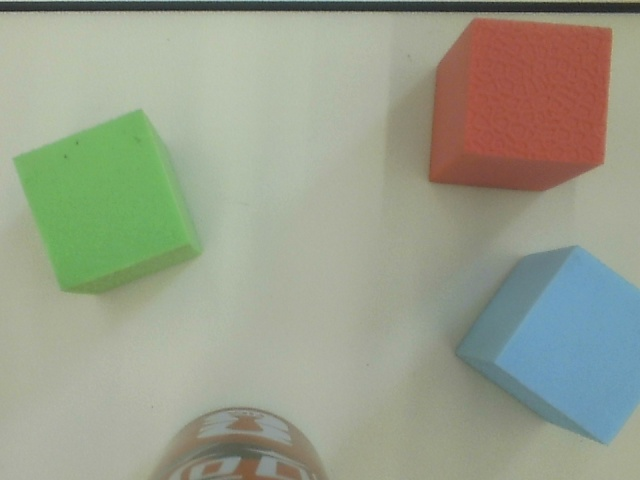bluecube: (458, 241, 640, 450)
cola: (149, 403, 334, 480)
greencube: (16, 104, 212, 299)
redcube: (422, 17, 615, 202)
